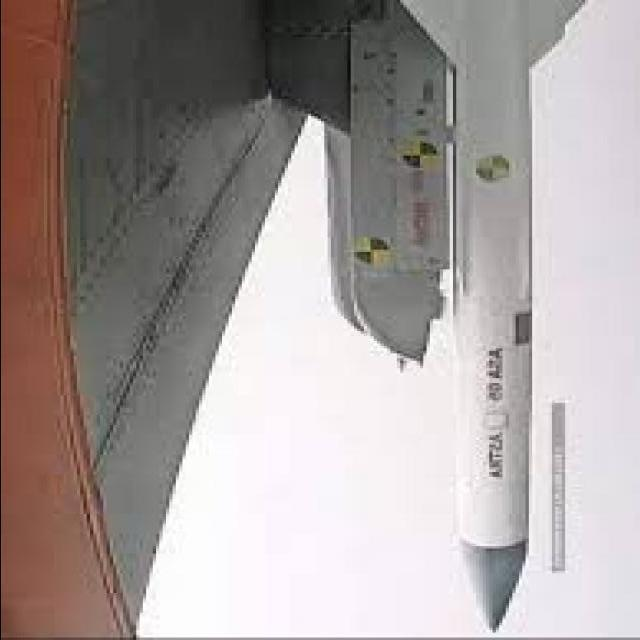missile: (402, 0, 602, 640)
